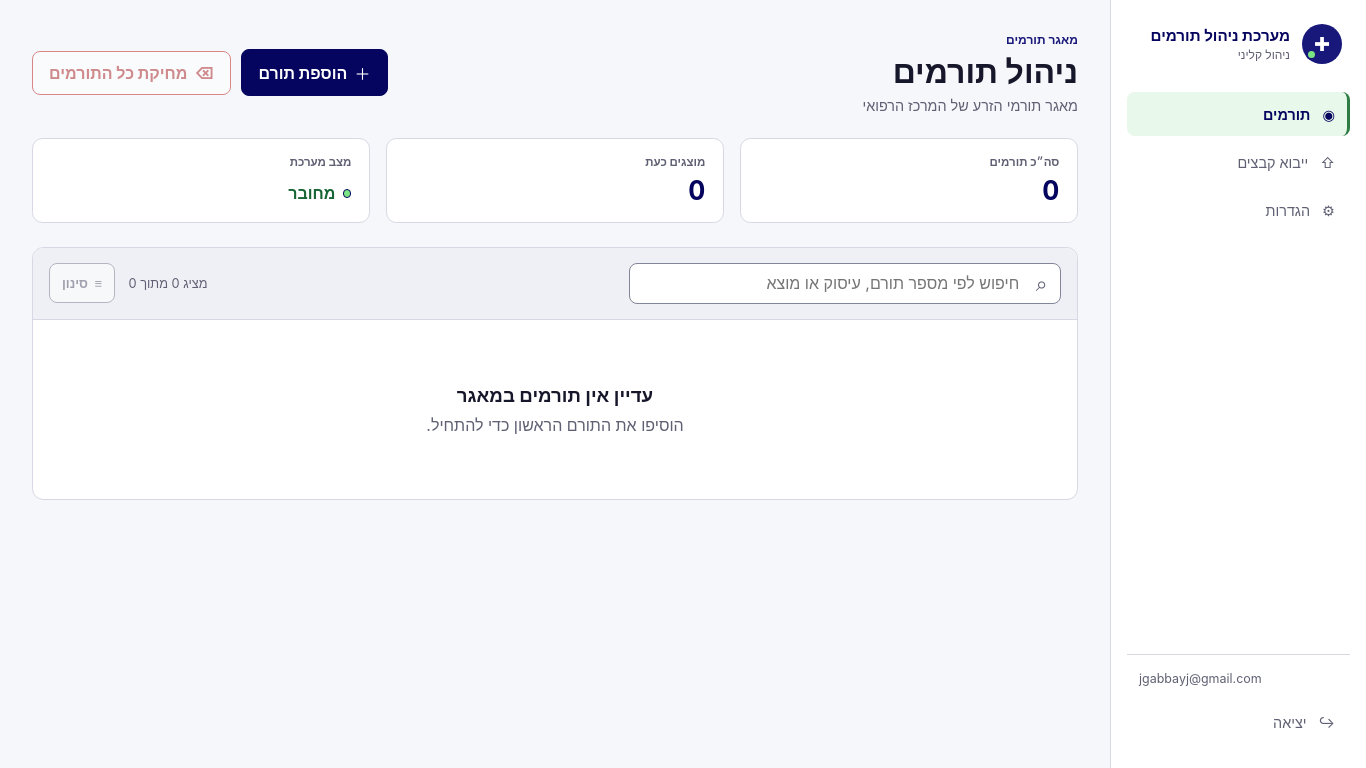
Test: App › opens the local PDF import workspace
This screenshot has width=1366, height=768.
Step 1. Click the button "⇧ ייבוא קבצים" → (1238, 162), box [1127,140,1350,184]
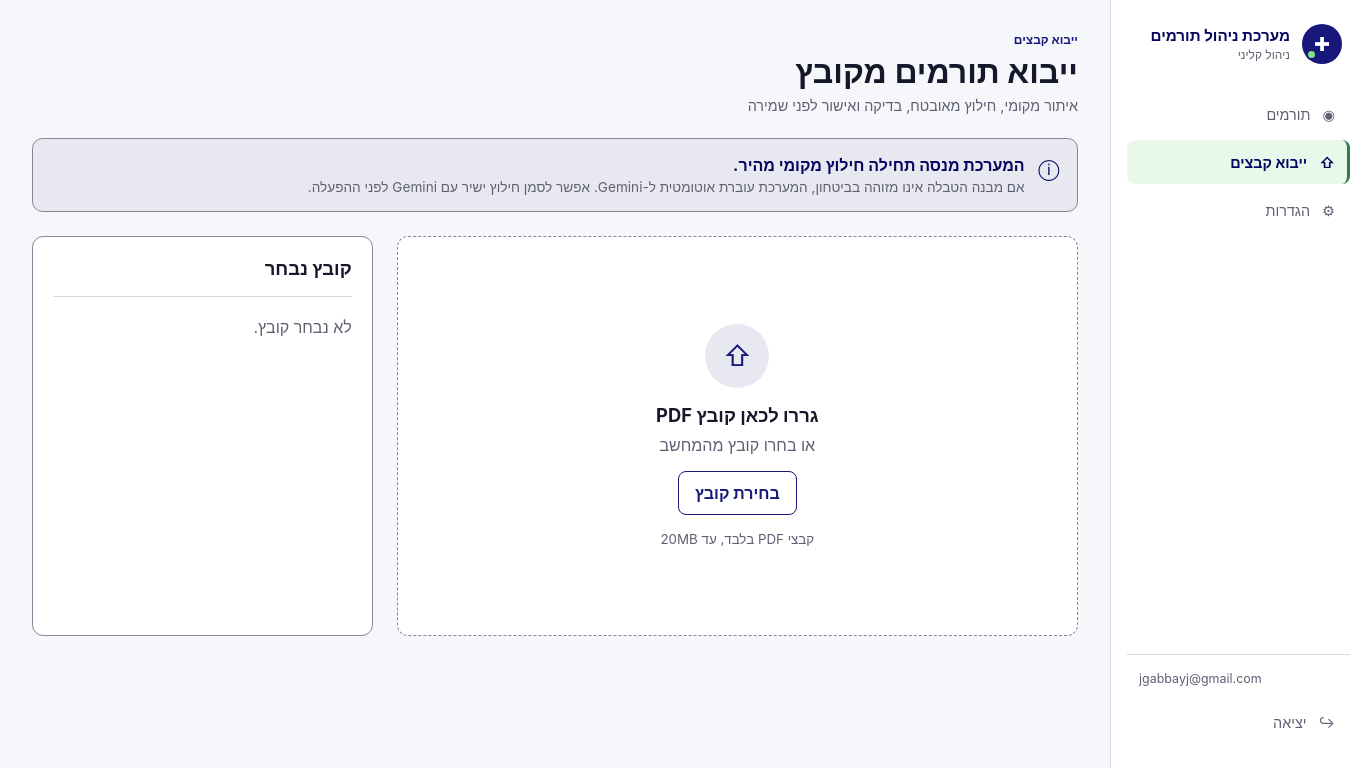
Now the heading "ייבוא תורמים מקובץ" is shown, box [748,53,1078,91]
Now the text "המערכת מנסה תחילה חילוץ מקומי מהיר." is shown, box [733,155,1025,175]
